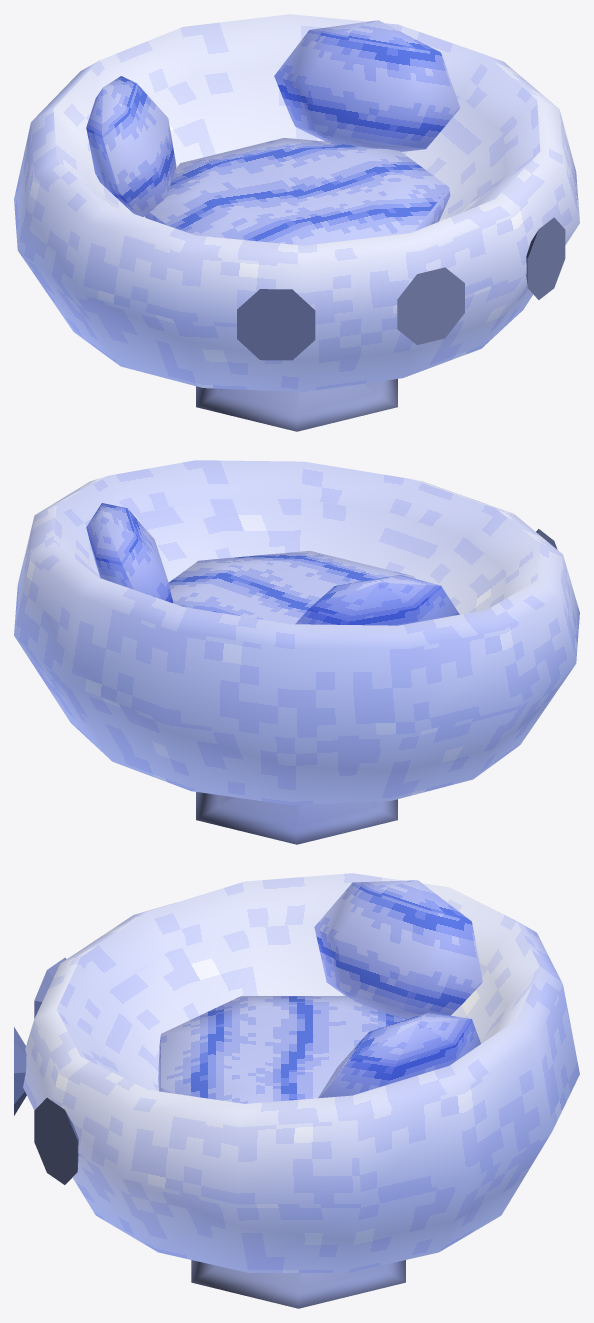
The model's file is furn.pod__bowl_portholes.glb.
The picture shows the model from 3 angles, top to bottom: view 1: azimuth 30°, elevation 25°; view 2: azimuth 150°, elevation 25°; view 3: azimuth 270°, elevation 25°; orthographic projection. The views are drawn at different scales.
Visible parts, largest first — view 1: kit_pod_shell, kit_pod_cushion, kit_portholes, kit_pod_feet; view 2: kit_pod_shell, kit_pod_cushion, kit_pod_feet; view 3: kit_pod_shell, kit_pod_cushion, kit_pod_feet, kit_portholes.
Boxes of the visible parts, bbox=[...] form: kit_pod_shell: bbox=[14, 14, 579, 391]; kit_pod_cushion: bbox=[86, 20, 459, 245]; kit_portholes: bbox=[237, 217, 565, 360]; kit_pod_feet: bbox=[196, 379, 397, 431]; kit_pod_shell: bbox=[14, 460, 579, 804]; kit_pod_cushion: bbox=[86, 503, 459, 625]; kit_pod_feet: bbox=[196, 792, 397, 844]; kit_pod_shell: bbox=[23, 873, 579, 1272]; kit_pod_cushion: bbox=[158, 880, 482, 1103]; kit_pod_feet: bbox=[191, 1260, 405, 1308]; kit_portholes: bbox=[14, 958, 78, 1184].
Bounding box in the file's own units: 1.41 × 0.7774 × 1.31.
3 materials, 2 textured.
